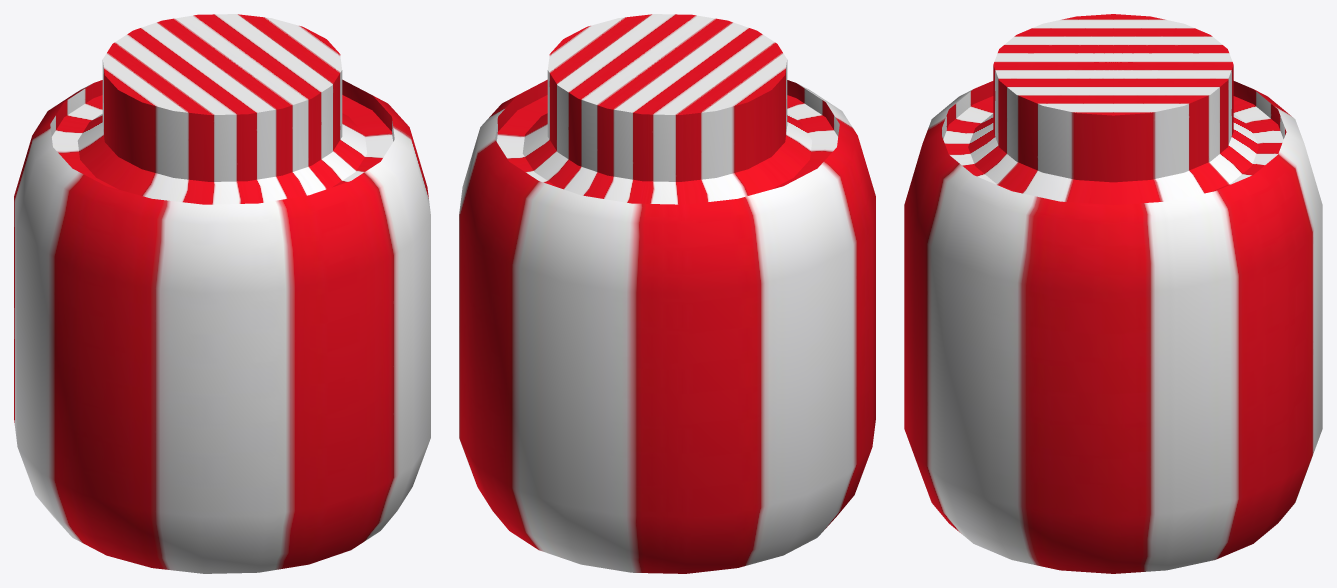
Rendered from 5hour.obj.
The picture shows the model from 3 angles, left to right: view 1: azimuth 30°, elevation 25°; view 2: azimuth 150°, elevation 25°; view 3: azimuth 270°, elevation 25°; orthographic projection.
Parts seen in each view (by area): view 1: hours:pCylinder1; view 2: hours:pCylinder1; view 3: hours:pCylinder1.
Boxes of the visible parts, left/top/right/bottom form: hours:pCylinder1: left=14, top=14, right=430, bottom=573; hours:pCylinder1: left=459, top=14, right=875, bottom=573; hours:pCylinder1: left=904, top=14, right=1322, bottom=573.
Size of the model in its own units: 33.45 by 38.45 by 33.45.
Materials: 1 (1 with a texture image).
